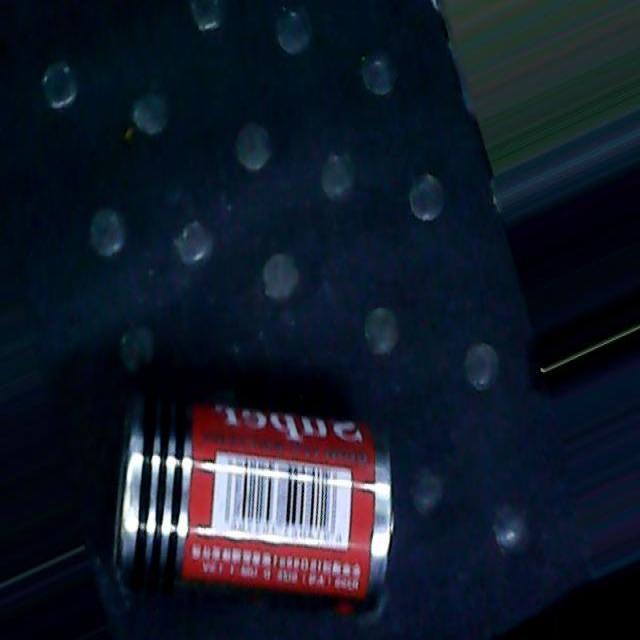-Hazardous waste - battery-: (110, 395, 394, 615)
